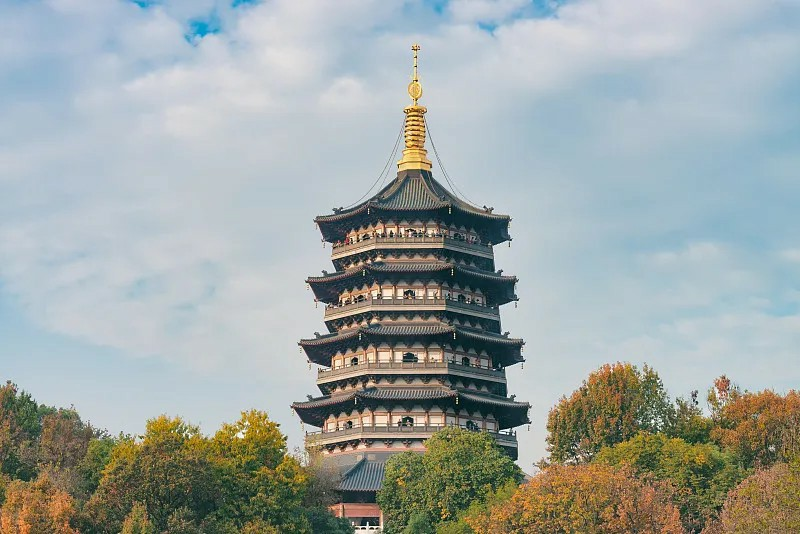Leifeng: (289, 42, 534, 529)
